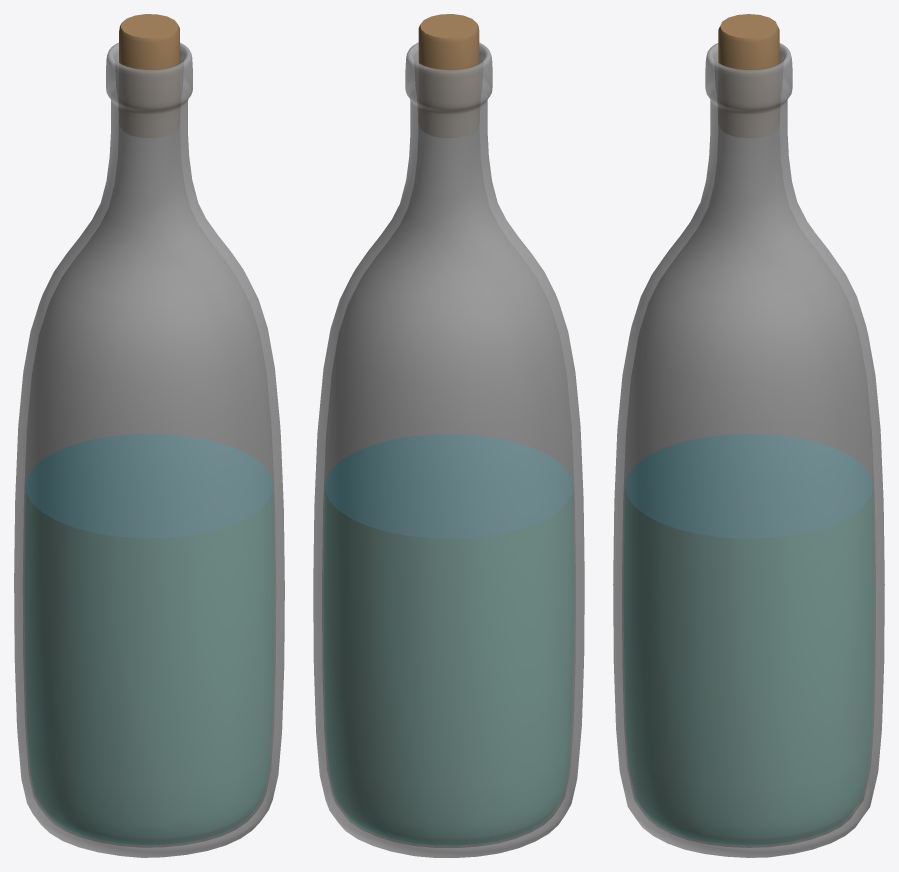
File: Potion_H.fbx
3 views of the same model, side by side, from view 1: azimuth 30°, elevation 25°; view 2: azimuth 150°, elevation 25°; view 3: azimuth 270°, elevation 25° (orthographic).
Parts seen in each view (by area): view 1: Glass, Cork; view 2: Glass, Cork; view 3: Glass, Cork.
Boxes of the visible parts, x1,y1,x2,y2 form: Glass: [14, 42, 284, 857]; Cork: [119, 14, 179, 137]; Glass: [313, 42, 584, 857]; Cork: [418, 14, 479, 137]; Glass: [613, 43, 884, 857]; Cork: [718, 14, 779, 137].
Size of the model in its own units: 7.56 by 24.39 by 7.56.
